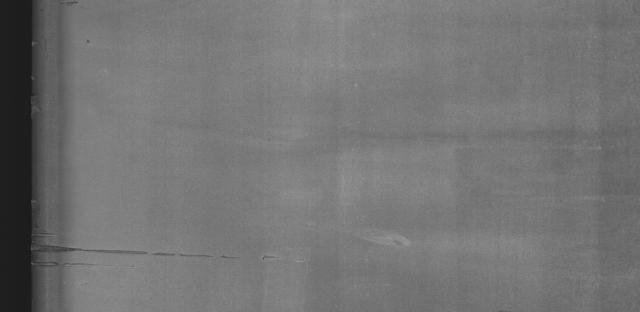crease: (30, 229, 252, 275)
